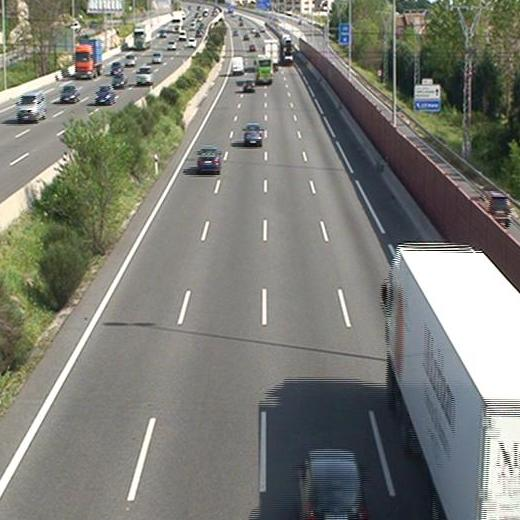bus: (257, 57, 273, 85)
car: (298, 449, 365, 520), (196, 146, 222, 171), (242, 123, 263, 144), (242, 79, 255, 92)
truck: (386, 245, 520, 519), (263, 40, 279, 65)
van: (231, 58, 244, 73)
